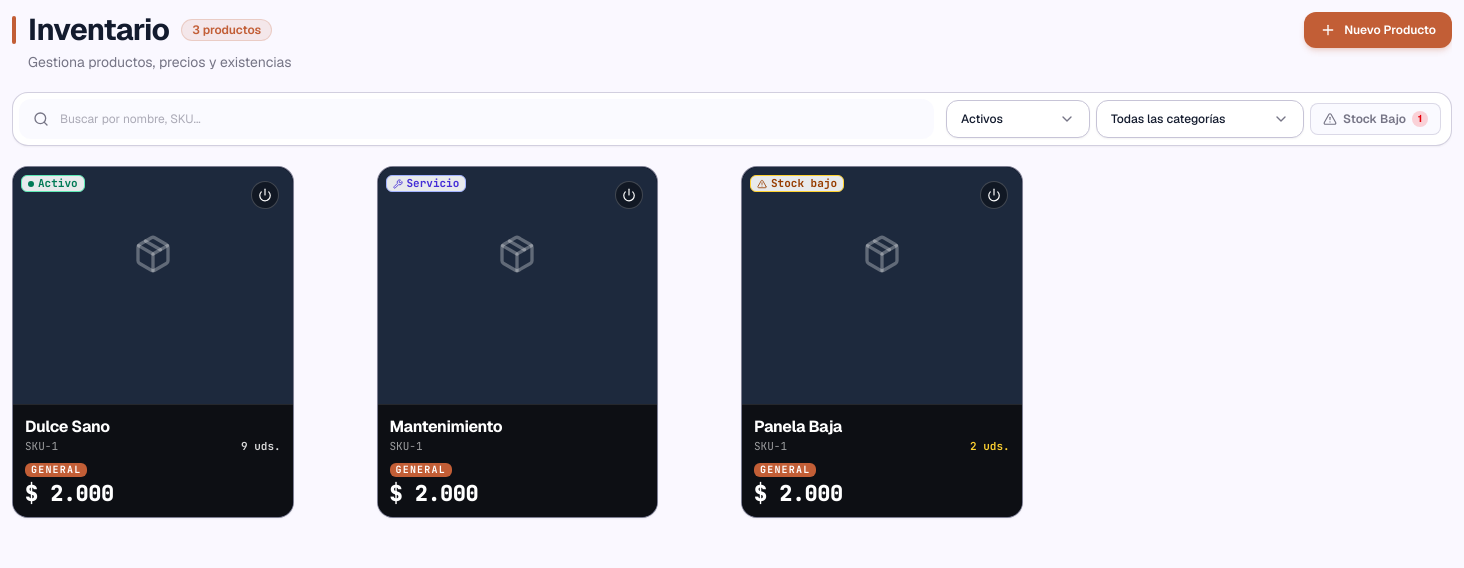
Inventory page — characterization (current behavior) › low-stock toggle skips services, which the server never flags as low
This screenshot has width=1464, height=568.
Click the button "Stock Bajo 1": (1376, 119) x1=1310 y1=103 x2=1441 y2=135
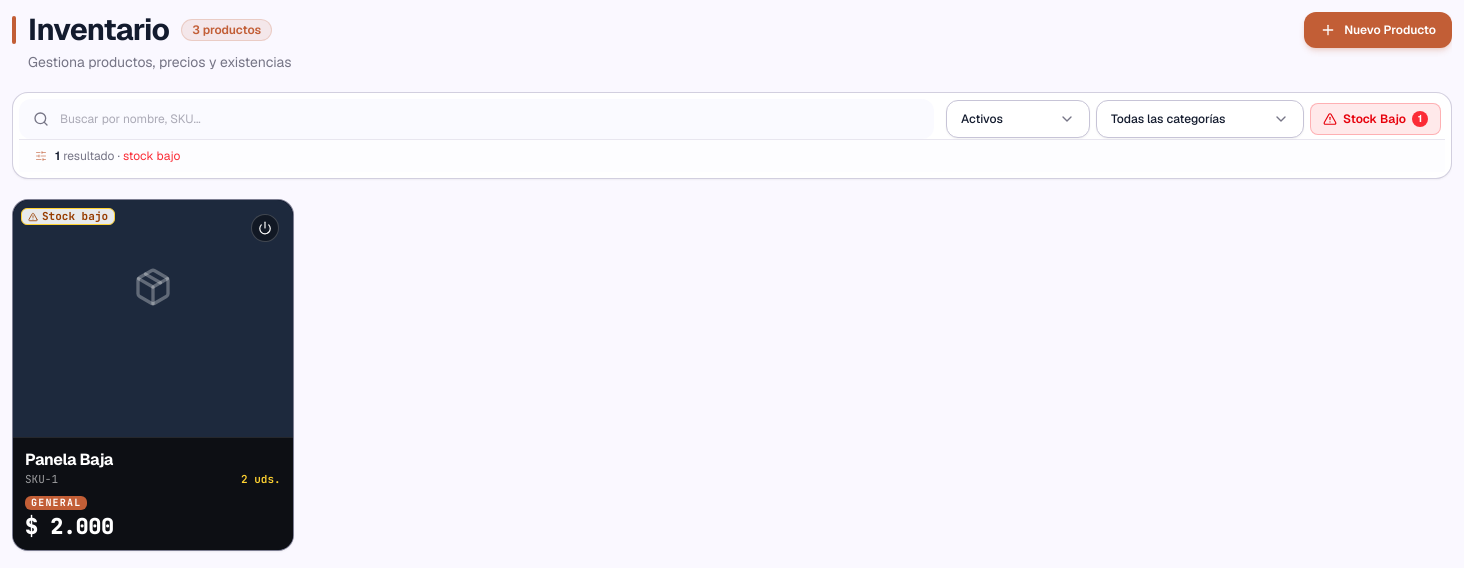
Expected: the heading "Panela Baja" is shown, x1=25 y1=449 x2=113 y2=470
Now the heading "Dulce Sano" is gone
Now the heading "Mantenimiento" is gone
